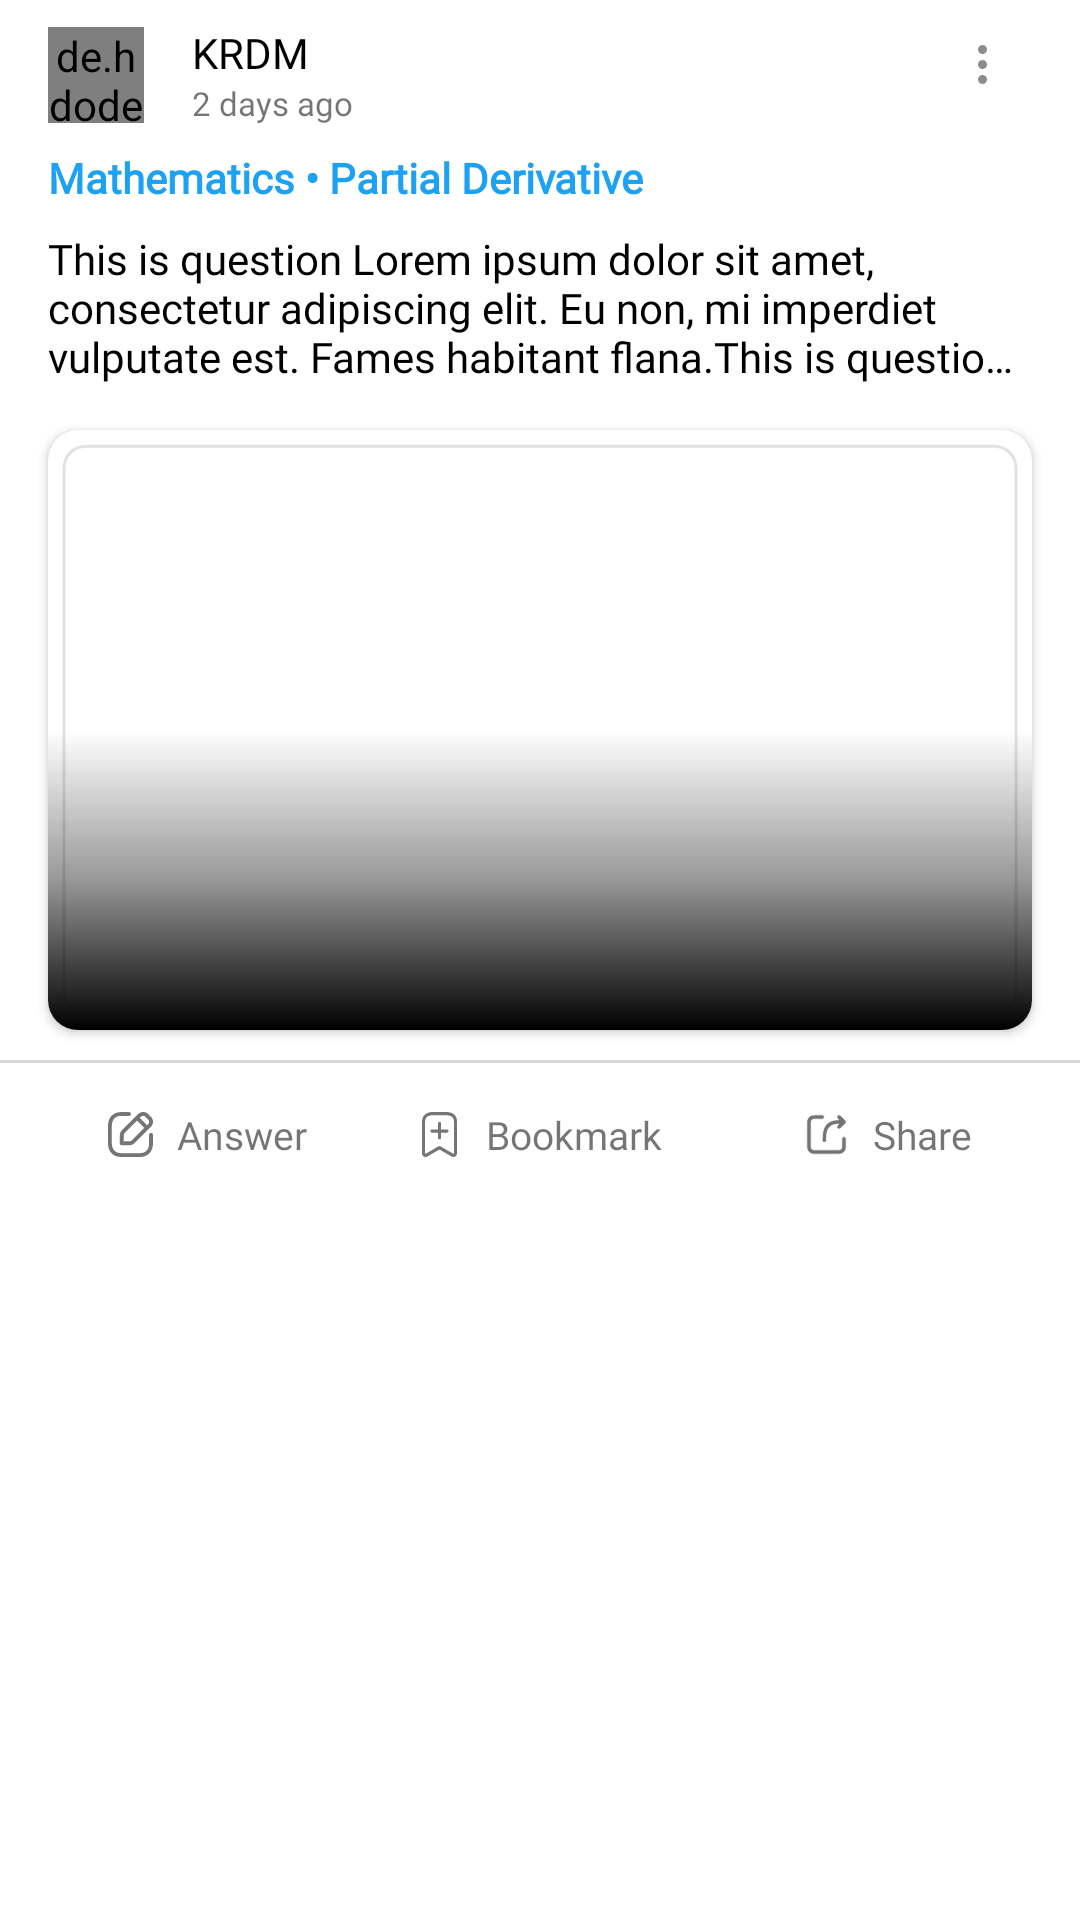

Screen size 1080 x 1920. Icon name, then its center in pixels as point (x, y):
add: point (439, 1134)
edit: point (130, 1134)
more: point (982, 64)
